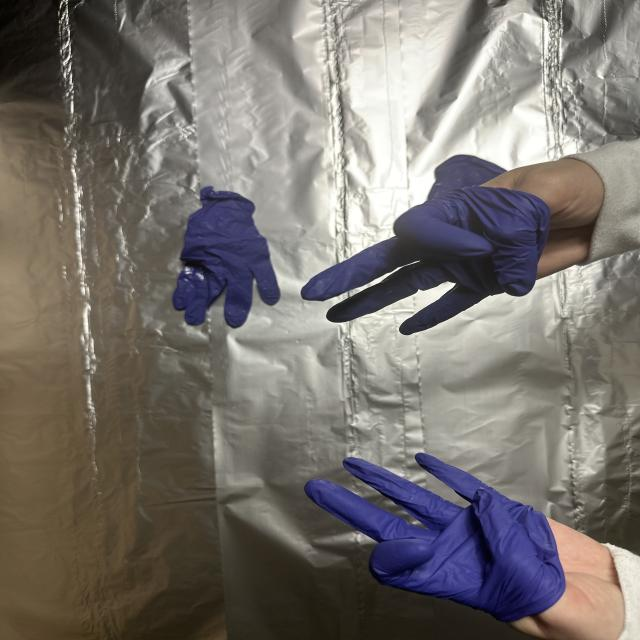glove_partial: (300, 451, 630, 640), (300, 156, 606, 334)
